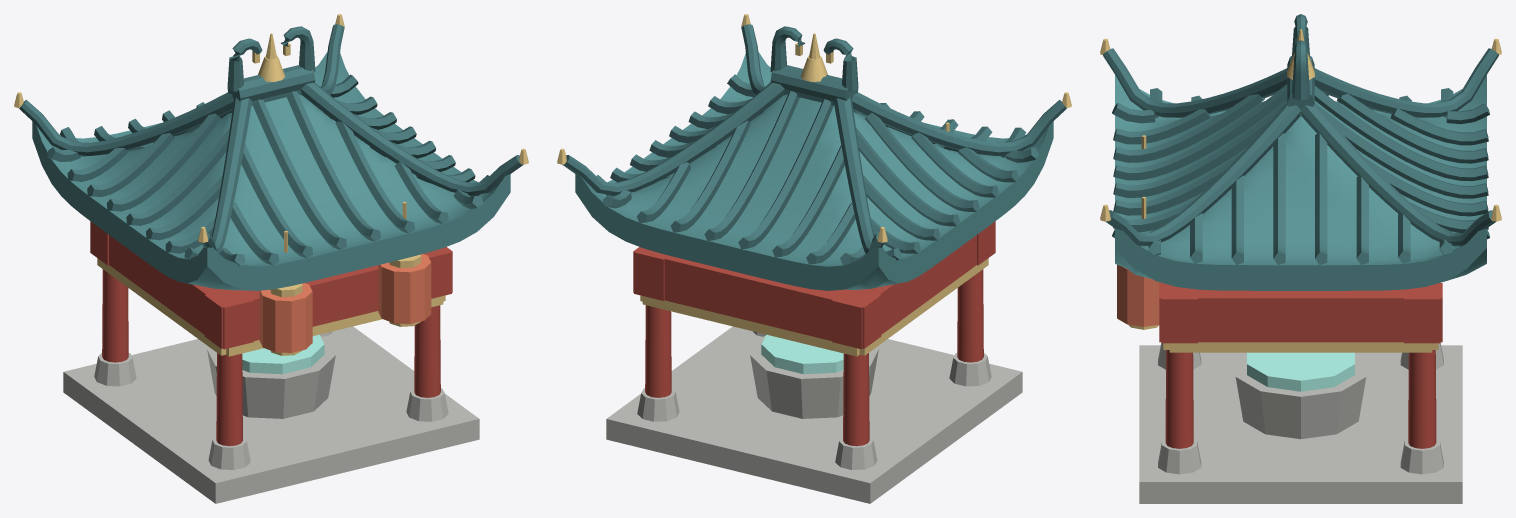
Rendered from SonMon_hearth.fbx.
3 views of the same model, side by side, from view 1: azimuth 30°, elevation 25°; view 2: azimuth 150°, elevation 25°; view 3: azimuth 270°, elevation 25° (orthographic). The views are drawn at different scales.
Visible parts, largest first — view 1: hearth; view 2: hearth; view 3: hearth.
Part boxes in pixels (x1,y1,x2,y2): hearth: (14, 14, 528, 503); hearth: (557, 14, 1071, 503); hearth: (1100, 14, 1501, 503).
Size of the model in its own units: 2 by 2.22 by 1.99.
